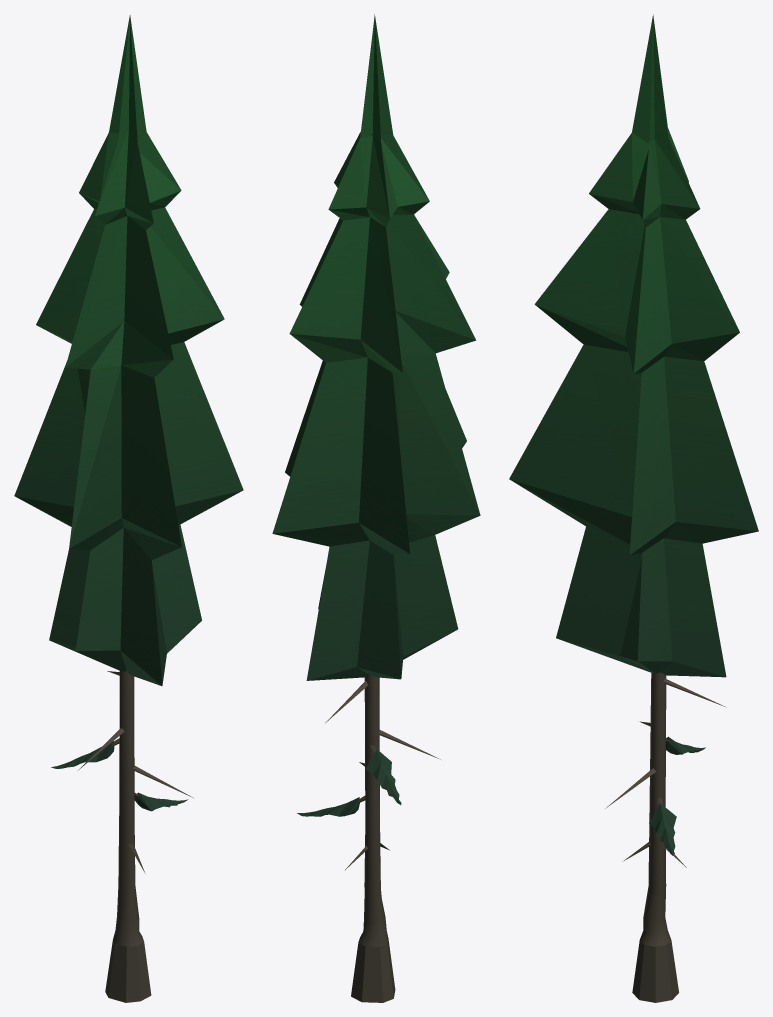
Rendered from prop_tree_H.fbx.
3 renders of one model, left to right at view 1: azimuth 30°, elevation 25°; view 2: azimuth 150°, elevation 25°; view 3: azimuth 270°, elevation 25°, orthographic.
Visible parts, largest first — view 1: prop_tree_h; view 2: prop_tree_h; view 3: prop_tree_h.
Part boxes in pixels (bbox=[...]): prop_tree_h: bbox=[14, 15, 243, 1002]; prop_tree_h: bbox=[272, 14, 480, 1002]; prop_tree_h: bbox=[509, 14, 758, 1002].
Size of the model in its own units: 245 by 1240 by 287.
1 material, 1 textured.
